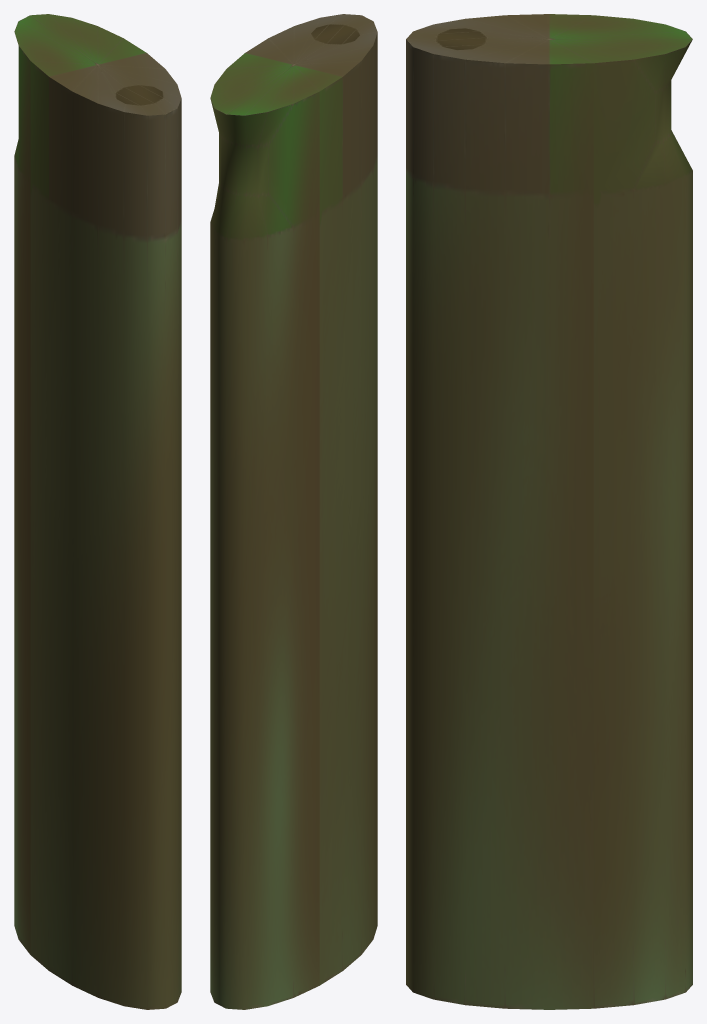
File: raitagreen.fbx
3 views of the same model, side by side, from view 1: azimuth 30°, elevation 25°; view 2: azimuth 150°, elevation 25°; view 3: azimuth 270°, elevation 25° (orthographic). The views are drawn at different scales.
Visible parts, largest first — view 1: pCylinder1; view 2: pCylinder1; view 3: pCylinder1.
Part boxes in pixels (bbox=[...]): pCylinder1: bbox=[14, 14, 181, 1009]; pCylinder1: bbox=[210, 14, 377, 1009]; pCylinder1: bbox=[406, 14, 692, 1009].
Size of the model in its own units: 0.431 by 3.76 by 1.03.
1 material, 1 textured.
